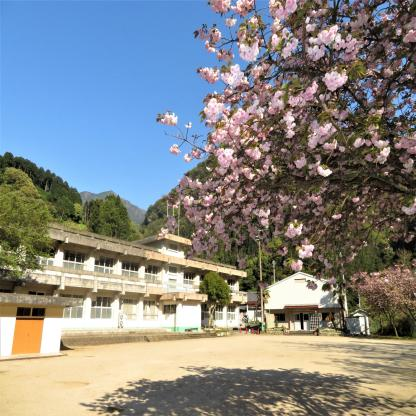YaeSakura: (162, 2, 415, 292), (355, 258, 397, 318), (398, 251, 416, 324)
